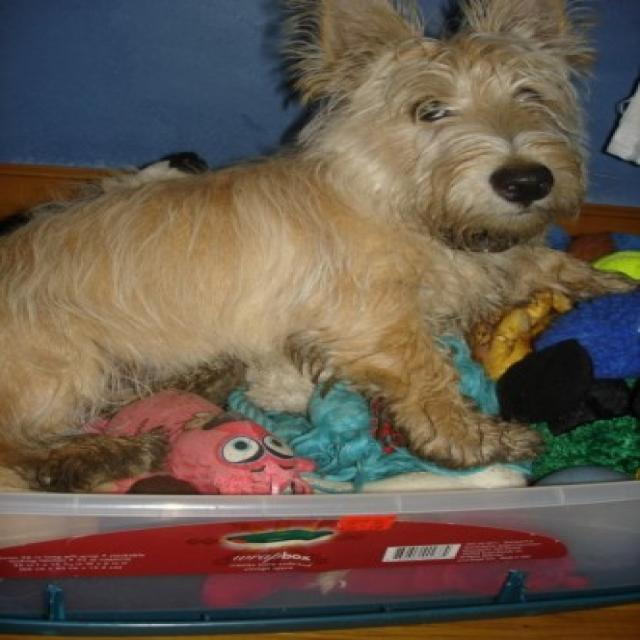dog-scottish_terrier: (2, 1, 636, 500)
